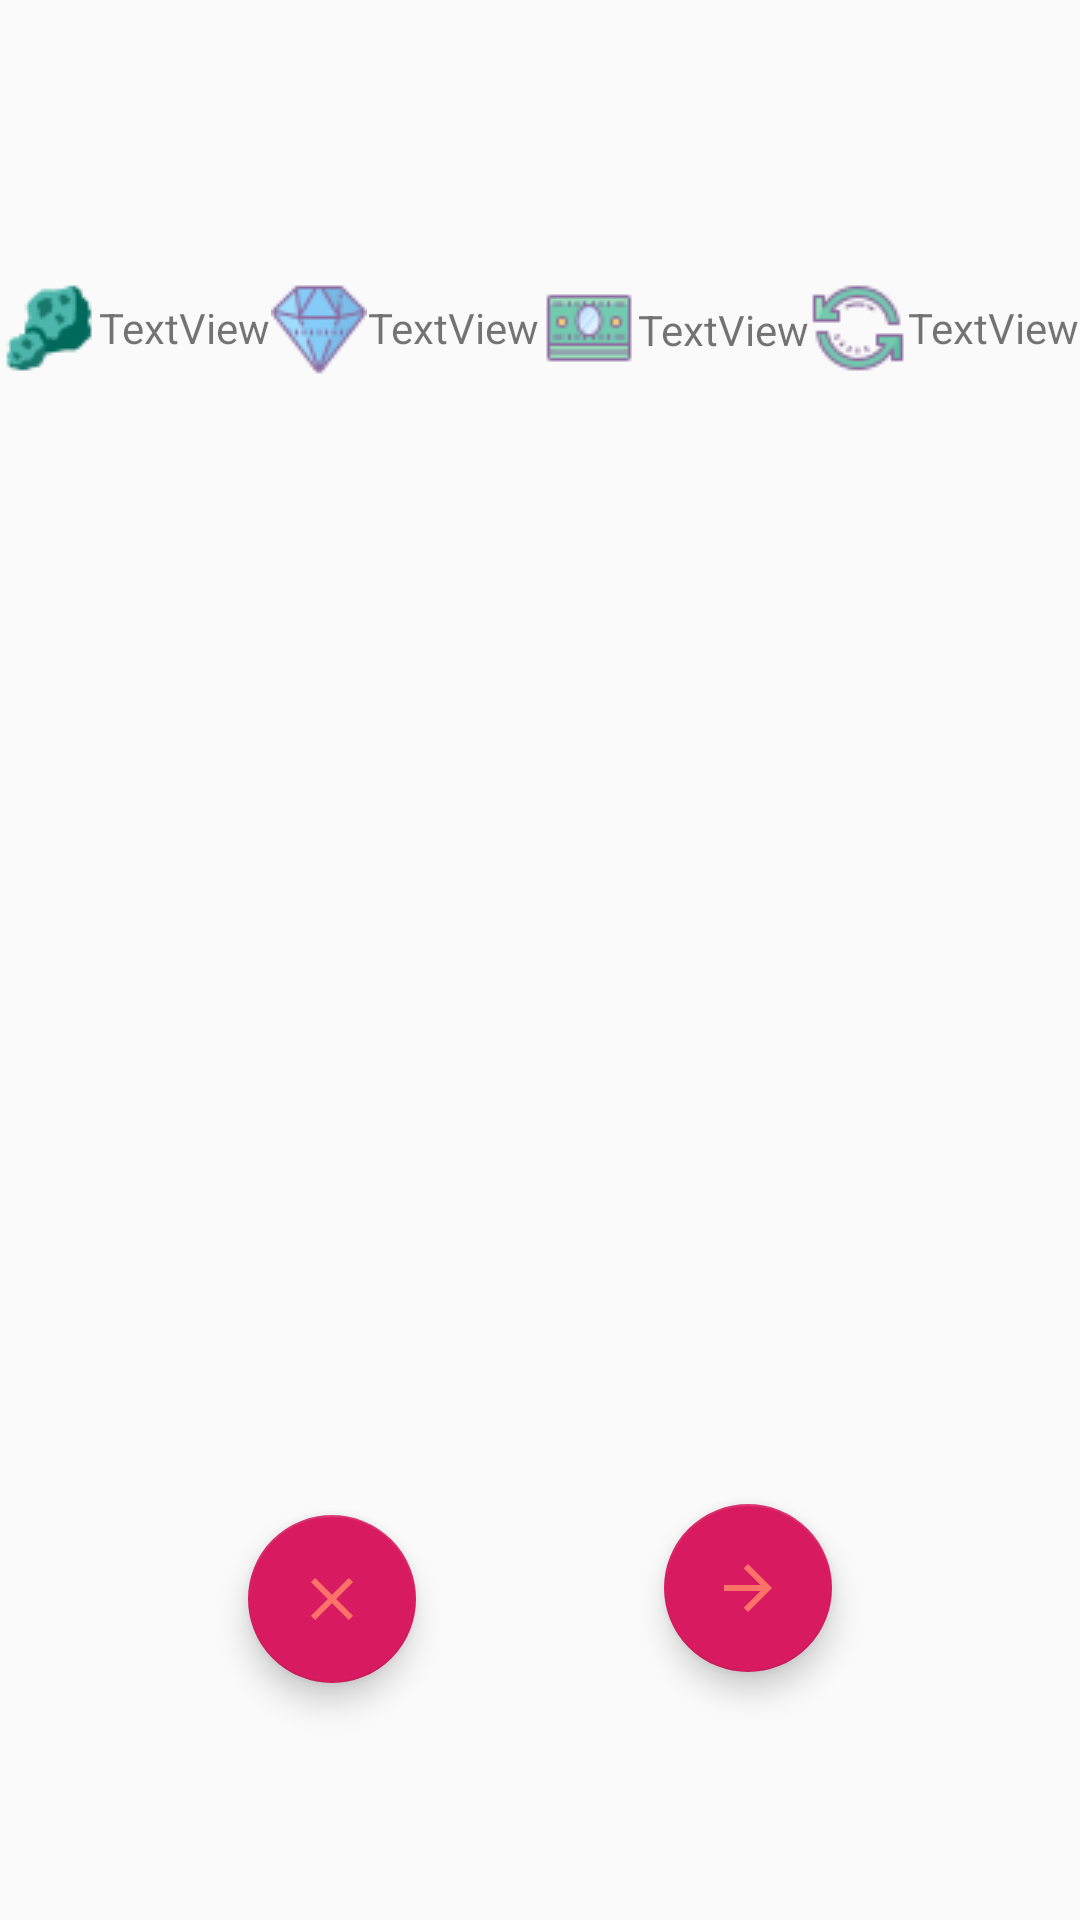

Named icons in this screenshot (1080px×1920px) and their centers, (x=x, y=y):
arrow forward coral: (x=748, y=1588)
close: (x=332, y=1599)
money: (x=589, y=328)
